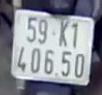0: (28, 45, 42, 73), (73, 49, 82, 76)
1: (71, 19, 80, 48)
4: (15, 43, 28, 74)
5: (58, 48, 73, 77), (24, 14, 38, 44)
6: (44, 48, 55, 74)
9: (38, 17, 51, 44)
K: (57, 16, 69, 47)
